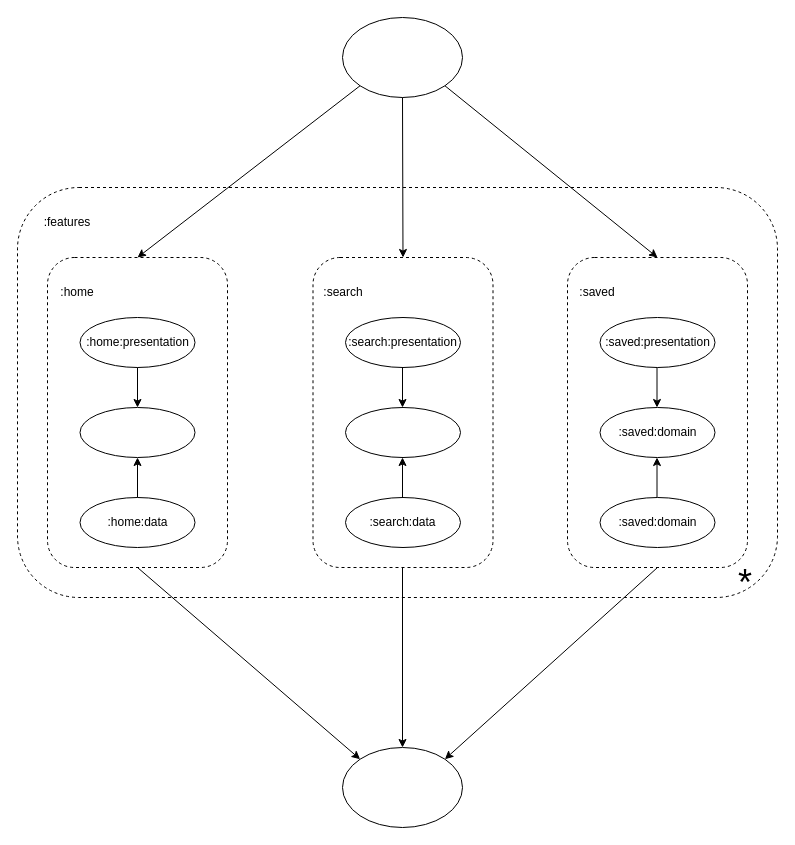
The diagram is 795 pixels wide and 845 high, and some of its shapes have lost their labels. Each missing label, with the box of its shape:
:app: (342, 16, 462, 98)
:core: (342, 746, 462, 828)
:home:domain: (79, 406, 195, 458)
:search:domain: (344, 406, 460, 458)
